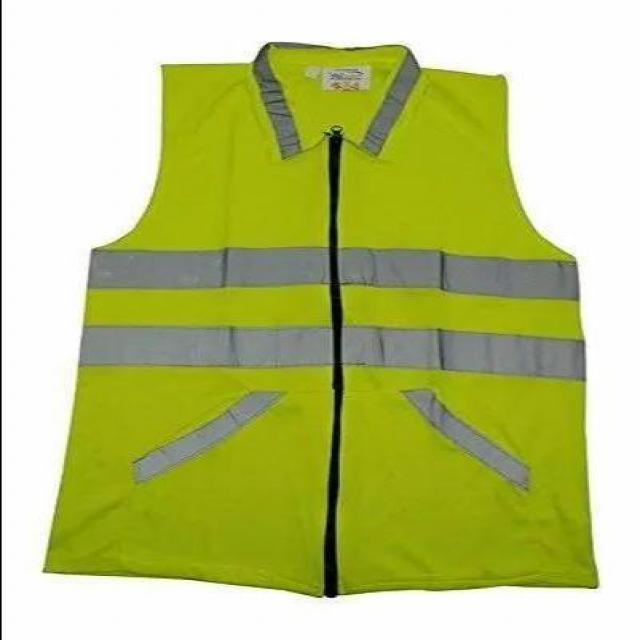reflective_jacket: (30, 18, 630, 624)
